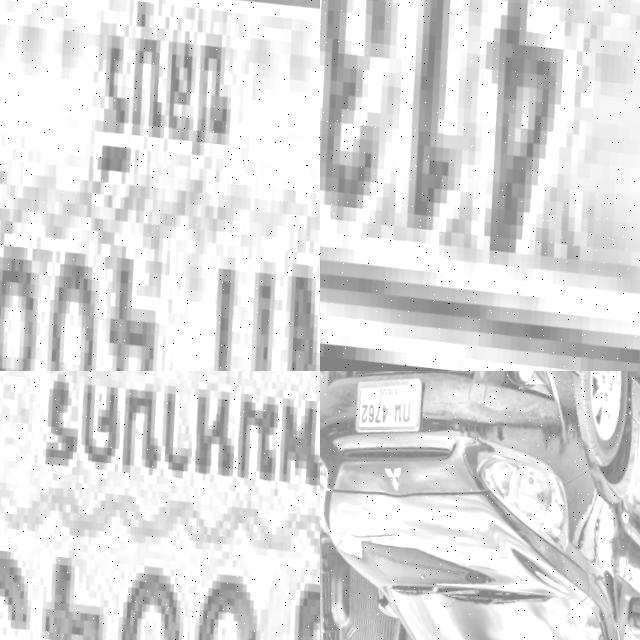license-plate: (0, 0, 320, 371), (320, 0, 640, 371), (0, 371, 320, 640), (343, 371, 422, 439)
